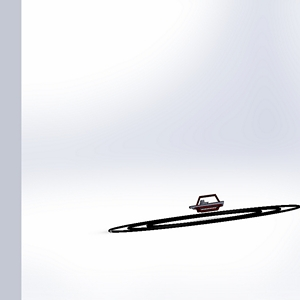circle: (102, 196, 300, 249)
submarine: (185, 189, 228, 216)
